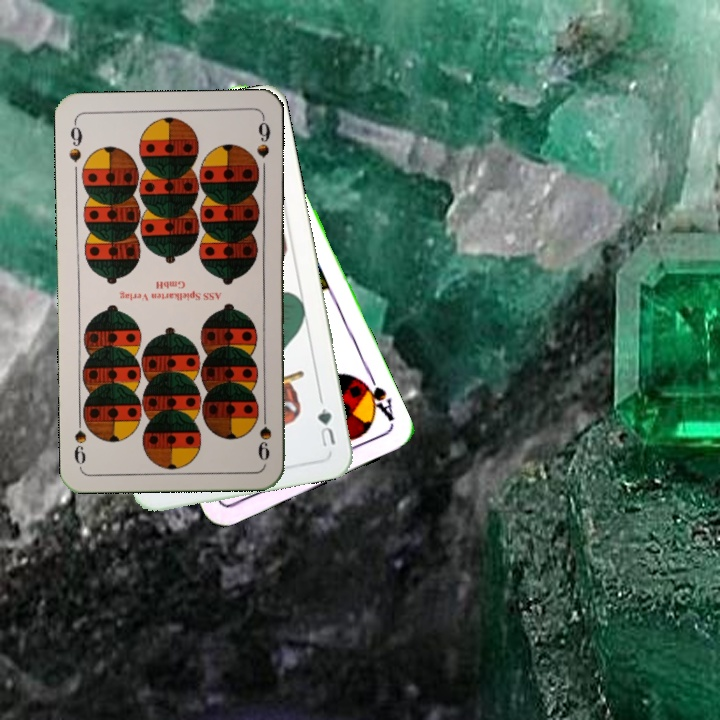GU: (313, 404, 338, 450)
S9: (253, 405, 274, 464), (65, 117, 85, 165)
SA: (355, 369, 397, 424)
